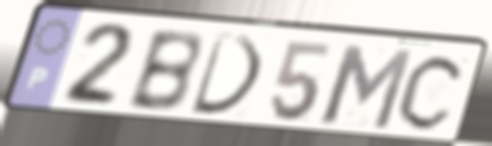2: (61, 20, 139, 109)
5: (267, 37, 336, 125)
B: (123, 28, 204, 116)
C: (393, 51, 470, 133)
D: (186, 30, 268, 118)
M: (317, 41, 417, 133)
